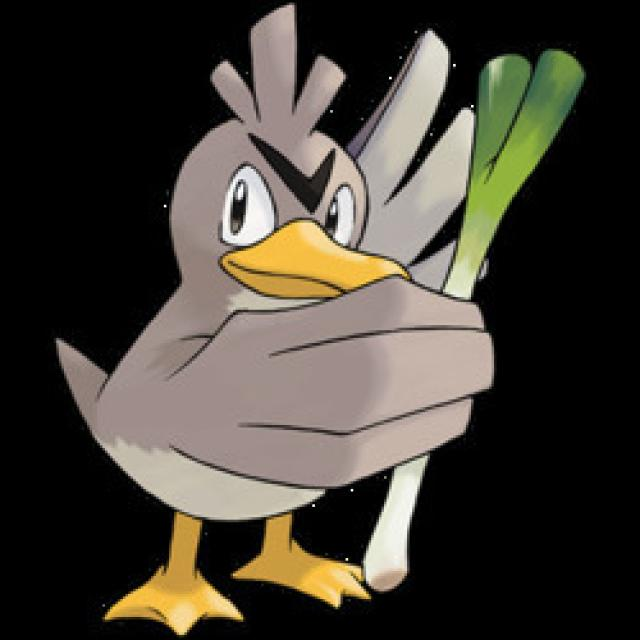Farfetchd: (49, 11, 590, 636)
